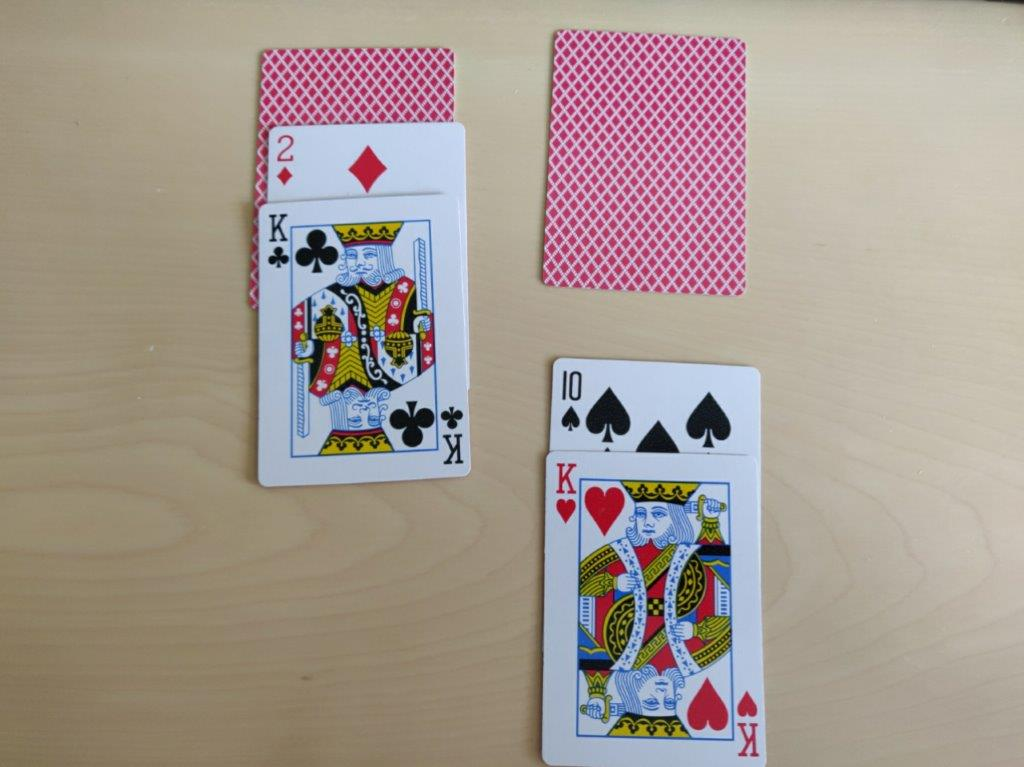10S: (557, 366, 585, 439)
2D: (269, 130, 301, 189)
BACK: (538, 25, 758, 300), (259, 49, 454, 126)
KC: (265, 211, 292, 271)
KH: (550, 454, 581, 529)
